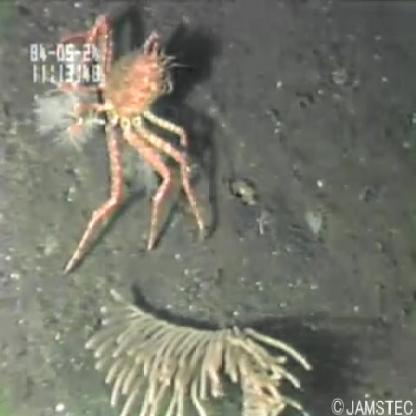Bio: (29, 12, 216, 276), (79, 277, 318, 416)
